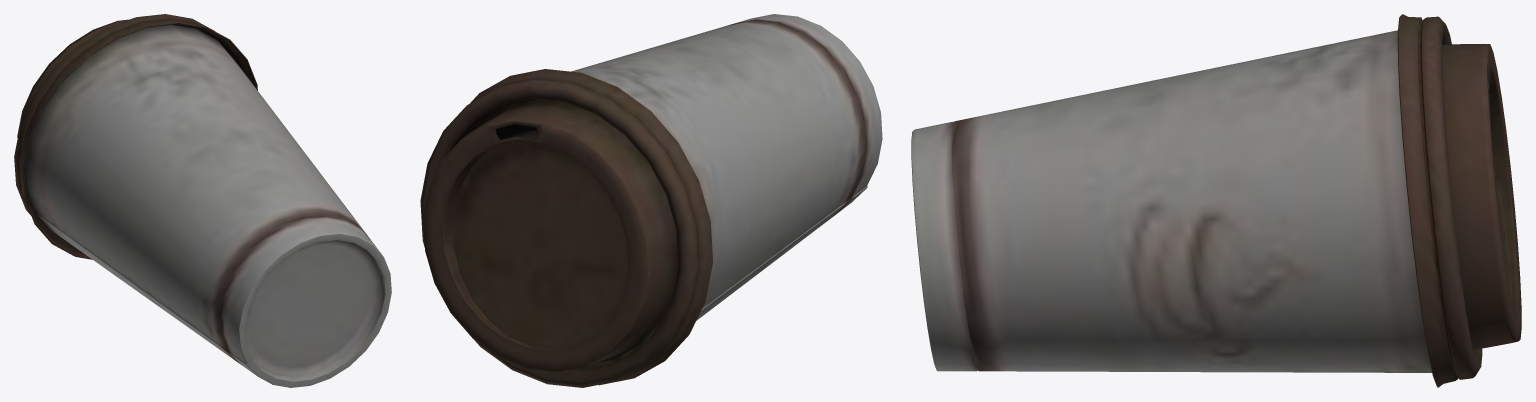
The model's file is trash_coffee_cup_01.dae.
3 views of the same model, side by side, from view 1: azimuth 30°, elevation 25°; view 2: azimuth 150°, elevation 25°; view 3: azimuth 270°, elevation 25° (orthographic). The views are drawn at different scales.
Visible parts, largest first — view 1: TrashGeneric_B_coffee_cup_top_16oz.001; view 2: TrashGeneric_B_coffee_cup_top_16oz.001; view 3: TrashGeneric_B_coffee_cup_top_16oz.001.
Boxes of the visible parts, x1,y1,x2,y2 form: TrashGeneric_B_coffee_cup_top_16oz.001: [14, 14, 391, 387]; TrashGeneric_B_coffee_cup_top_16oz.001: [420, 14, 882, 387]; TrashGeneric_B_coffee_cup_top_16oz.001: [911, 14, 1521, 387].
Size of the model in its own units: 0.1073 by 0.1736 by 0.1066.
Materials: 1 (1 with a texture image).
